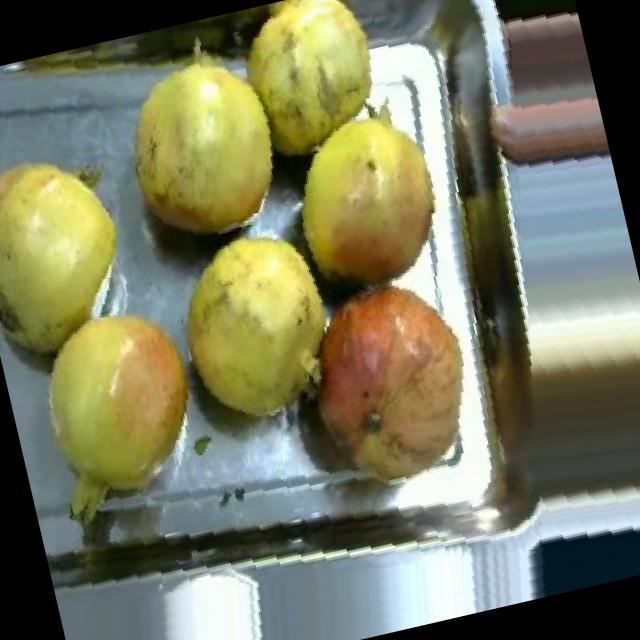fruit: (3, 273, 244, 539), (271, 250, 508, 520), (95, 18, 309, 267), (153, 207, 363, 455), (262, 77, 470, 313), (0, 118, 162, 377), (218, 0, 407, 165)
